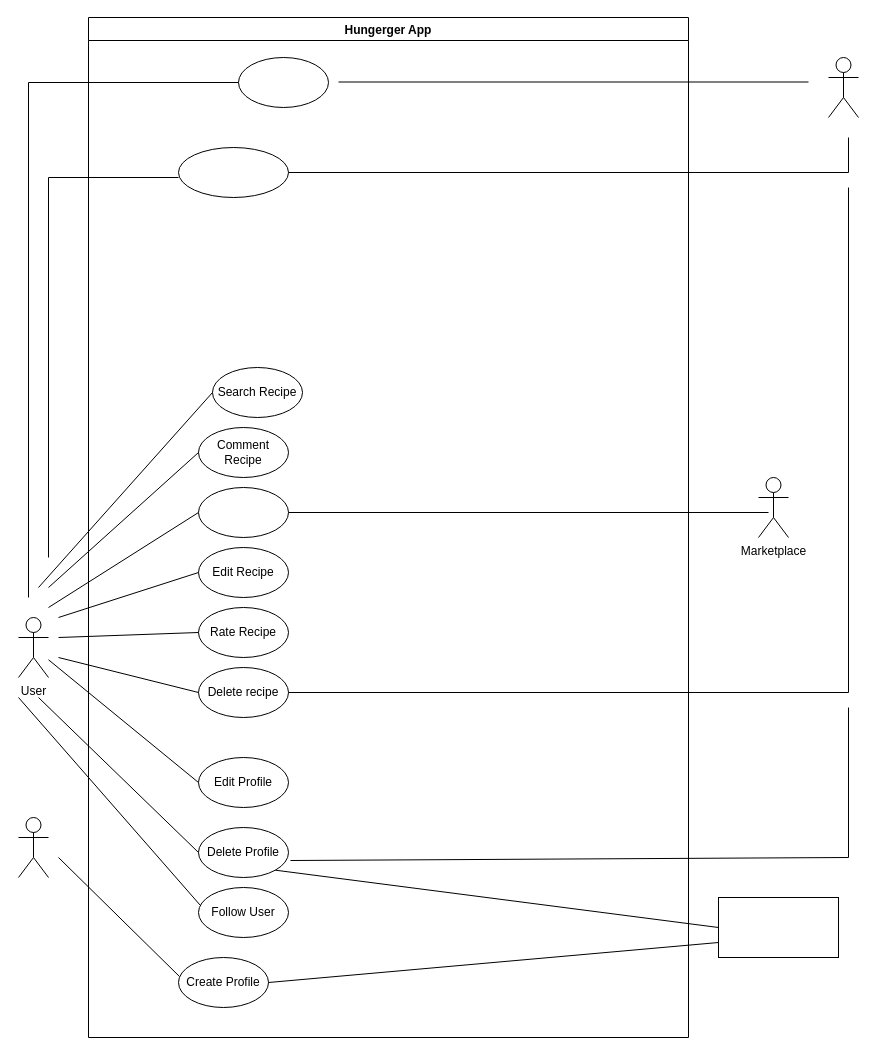
This 878x1055 diagram has some shape labels left out. The box of each missing label's shape, as (x1, y1, x2, y2) in pixels:
<<actor>> Legal Team: (718, 896, 838, 958)
Admin: (828, 56, 858, 118)
Create recipe: (198, 486, 288, 538)
Report Misuse: (238, 56, 328, 108)
Update to Verified Account: (178, 146, 288, 198)
Visitor: (18, 816, 48, 878)
